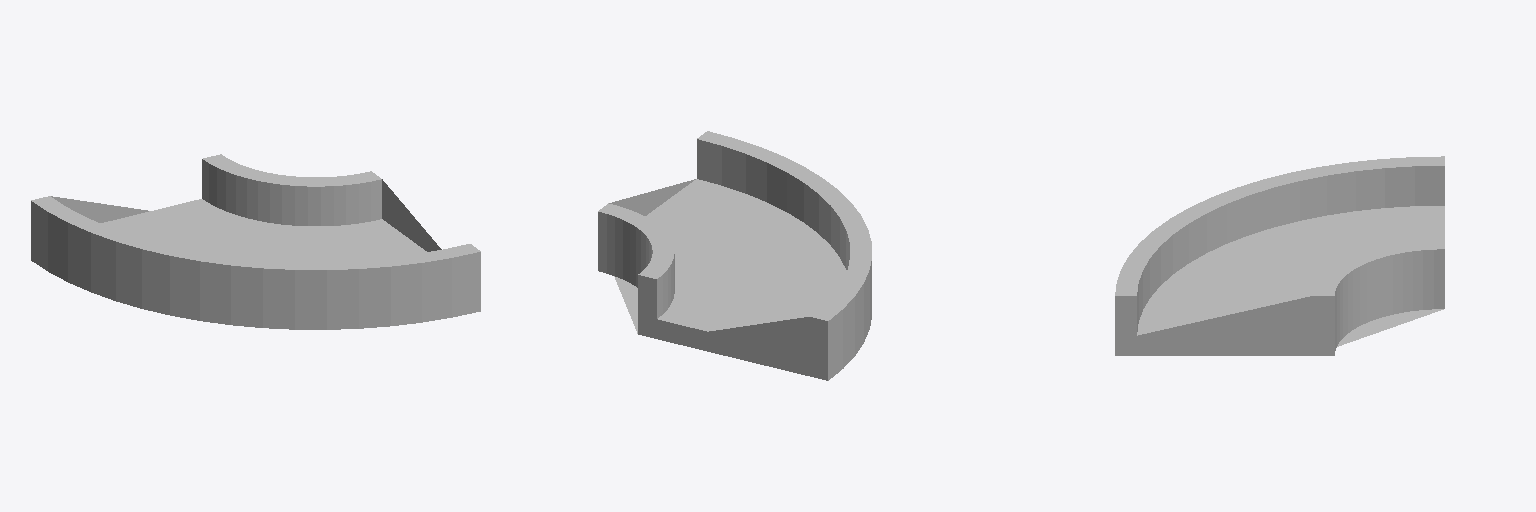
The model's file is CornerMedium.obj.
3 renders of one model, left to right at view 1: azimuth 30°, elevation 25°; view 2: azimuth 150°, elevation 25°; view 3: azimuth 270°, elevation 25°, orthographic.
Visible parts, largest first — view 1: CornerMedium; view 2: CornerMedium; view 3: CornerMedium.
Part boxes in pixels (x1,y1,x2,y2): CornerMedium: (31, 154, 480, 329); CornerMedium: (598, 131, 871, 380); CornerMedium: (1115, 156, 1444, 355).
Bounding box in the file's own units: 3 × 0.6 × 3.